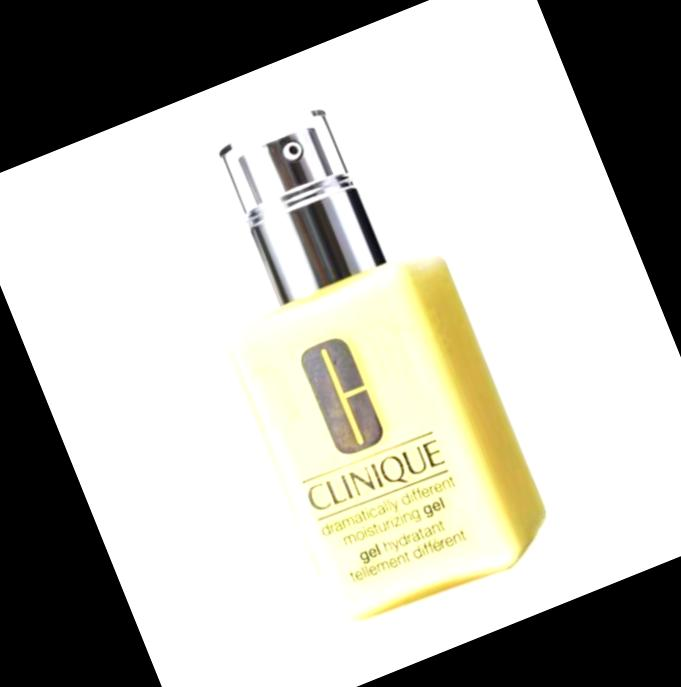cosmetic: (152, 77, 560, 632)
